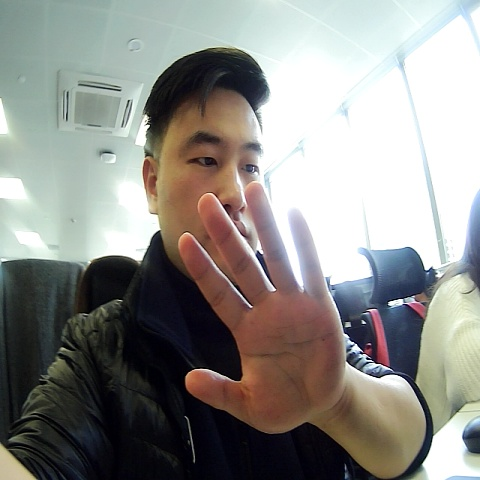palm: (169, 176, 351, 436)
